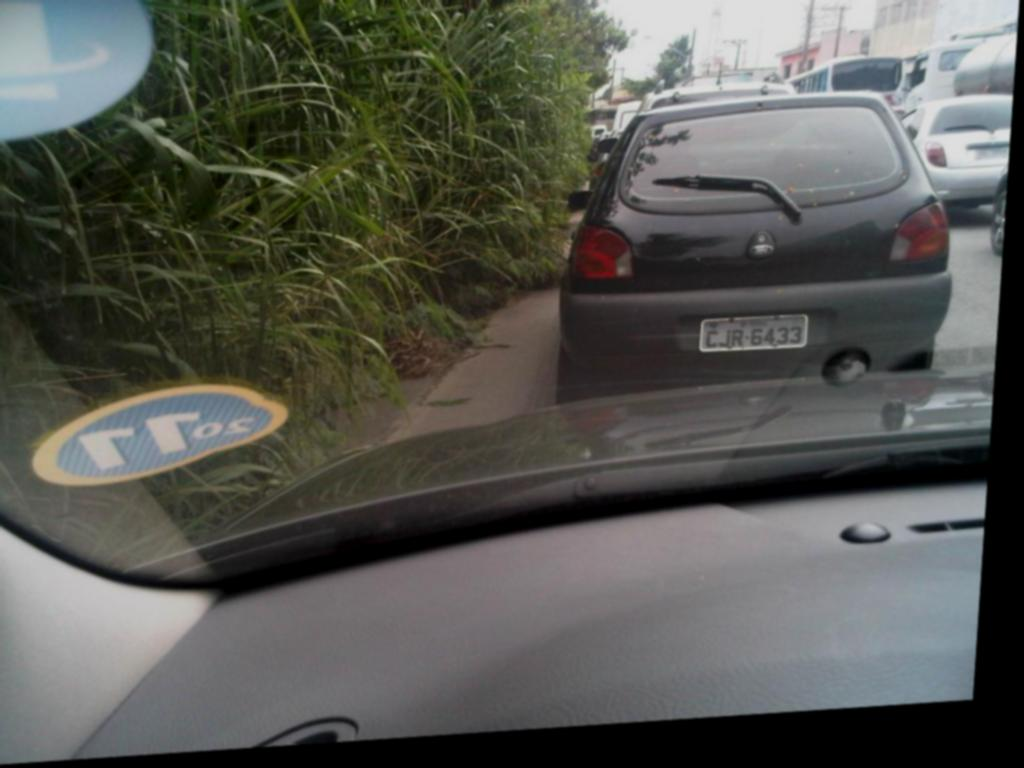License_Plate: (699, 309, 809, 354)
